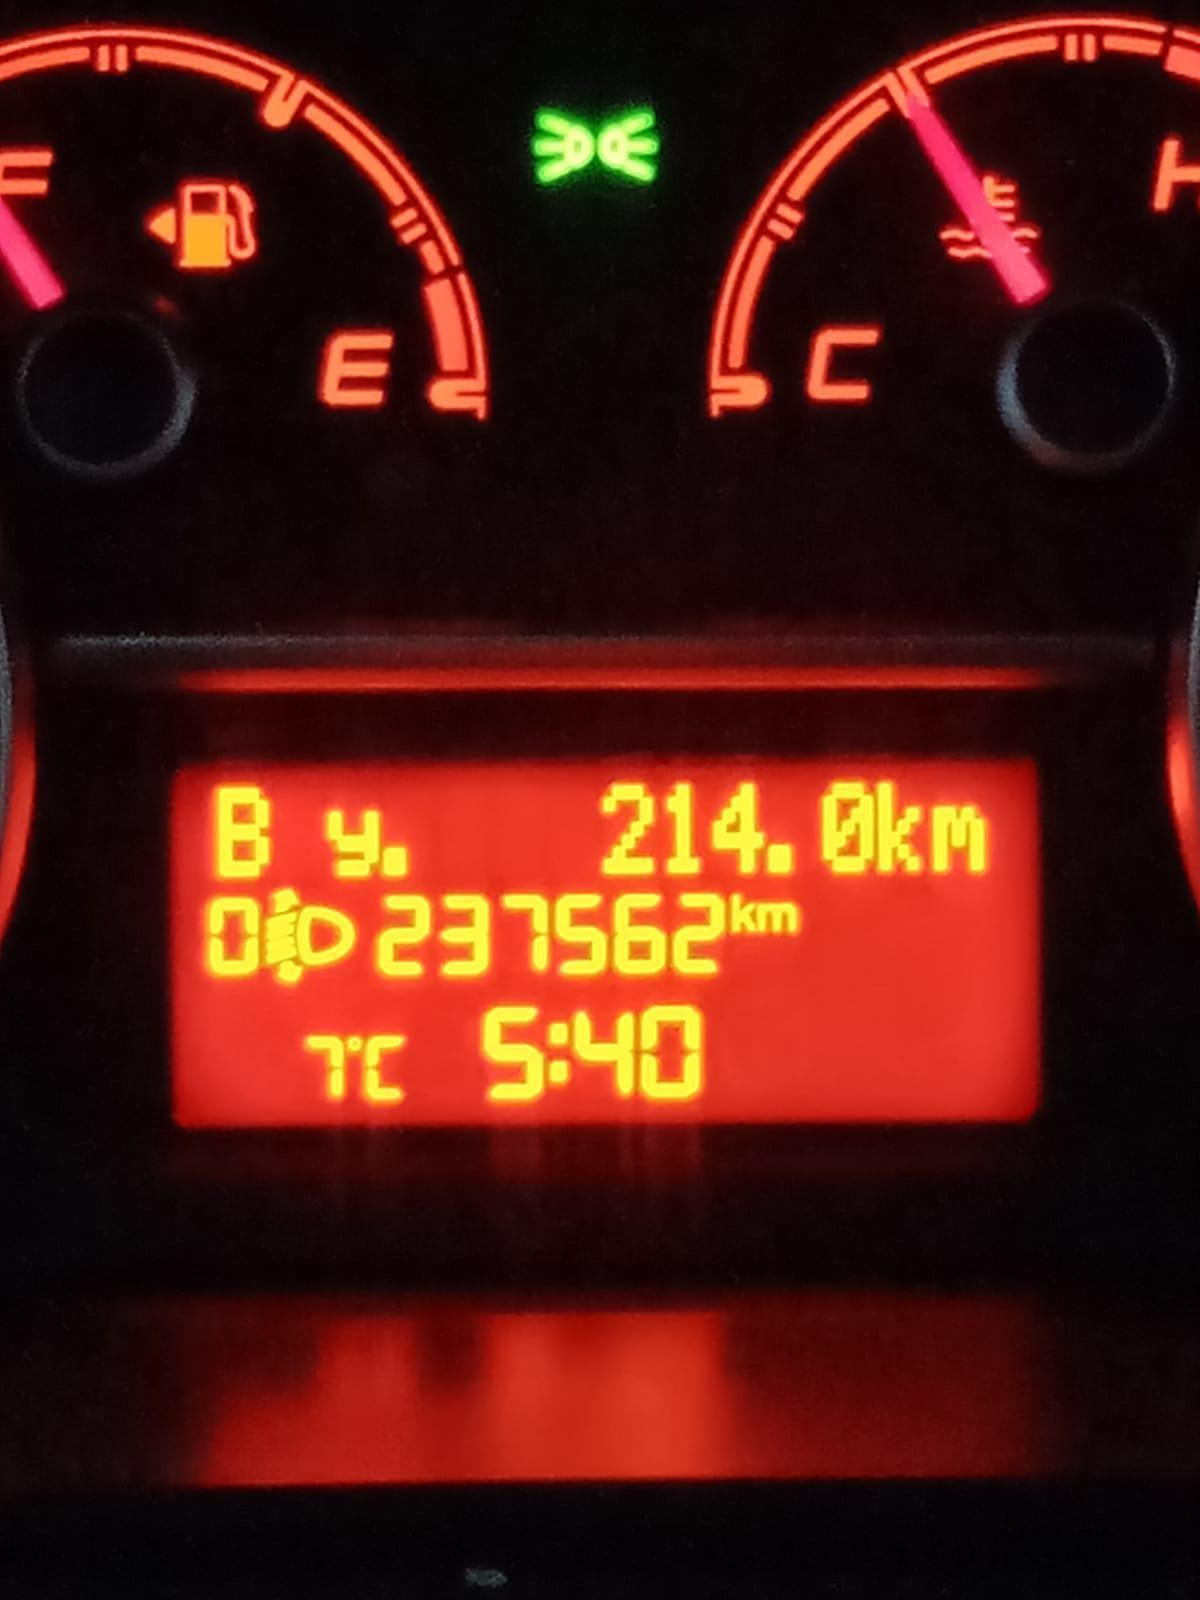,: (763, 842, 795, 877), (379, 844, 411, 879)
0: (639, 1002, 703, 1101), (817, 780, 874, 876), (203, 894, 262, 978)
1: (662, 781, 703, 876)
2: (597, 780, 657, 876), (376, 893, 432, 979), (672, 891, 726, 976)
3: (435, 891, 492, 978)
4: (568, 1009, 638, 1099), (710, 782, 764, 876)
5: (479, 1003, 547, 1104), (552, 892, 608, 976)
6: (610, 892, 667, 976)
7: (498, 891, 551, 973), (303, 1033, 348, 1102)
X: (213, 784, 274, 883), (875, 779, 926, 876), (321, 808, 383, 879), (929, 803, 988, 874), (362, 1032, 407, 1104), (545, 1019, 572, 1086), (756, 901, 799, 935), (729, 892, 758, 935)
odometer: (160, 746, 1051, 1136)
